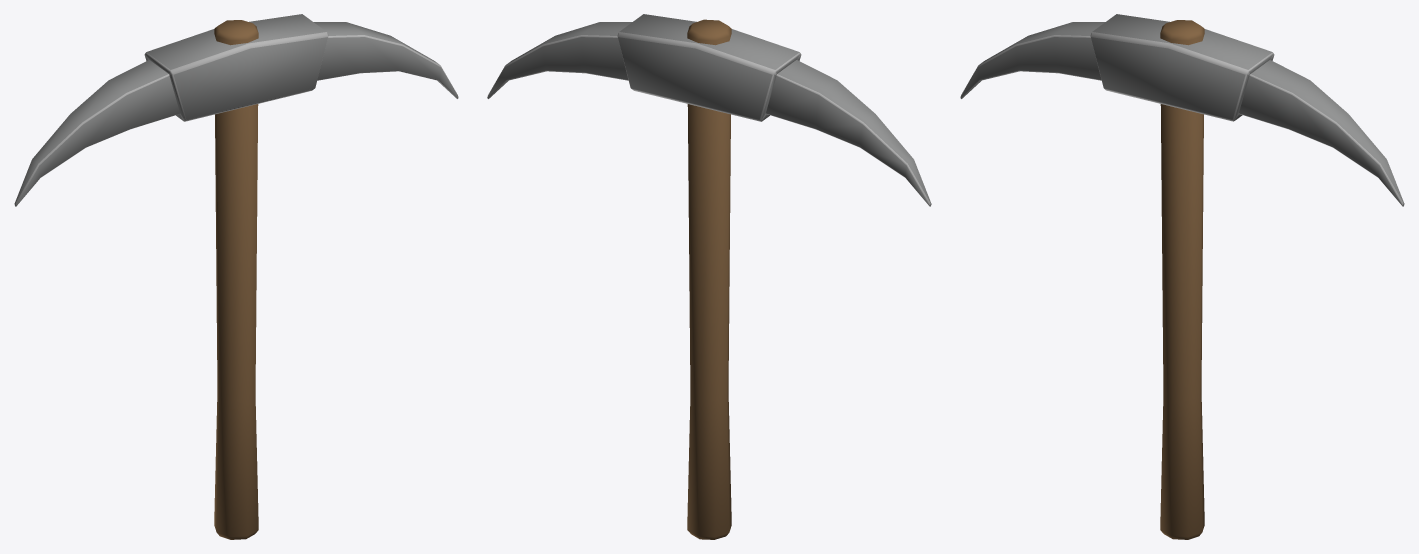
The model's file is PickAxe.fbx.
3 renders of one model, left to right at view 1: azimuth 30°, elevation 25°; view 2: azimuth 150°, elevation 25°; view 3: azimuth 330°, elevation 25°, orthographic.
Parts seen in each view (by area): view 1: Cylinder.001; view 2: Cylinder.001; view 3: Cylinder.001.
Part boxes in pixels (<box>): Cylinder.001: <box>14,14,458,539</box>; Cylinder.001: <box>487,14,931,539</box>; Cylinder.001: <box>960,14,1404,539</box>.
Size of the model in its own units: 0.6634 by 0.723 by 0.074.
